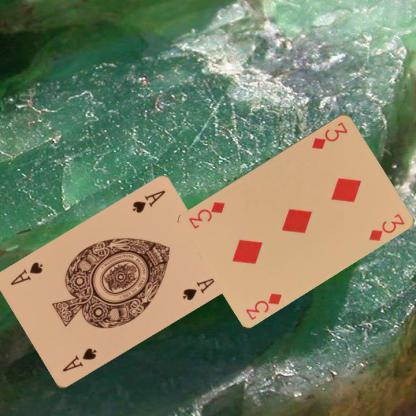3d: (243, 290, 284, 322), (309, 119, 350, 150)
As: (60, 345, 98, 374), (129, 188, 167, 215)
